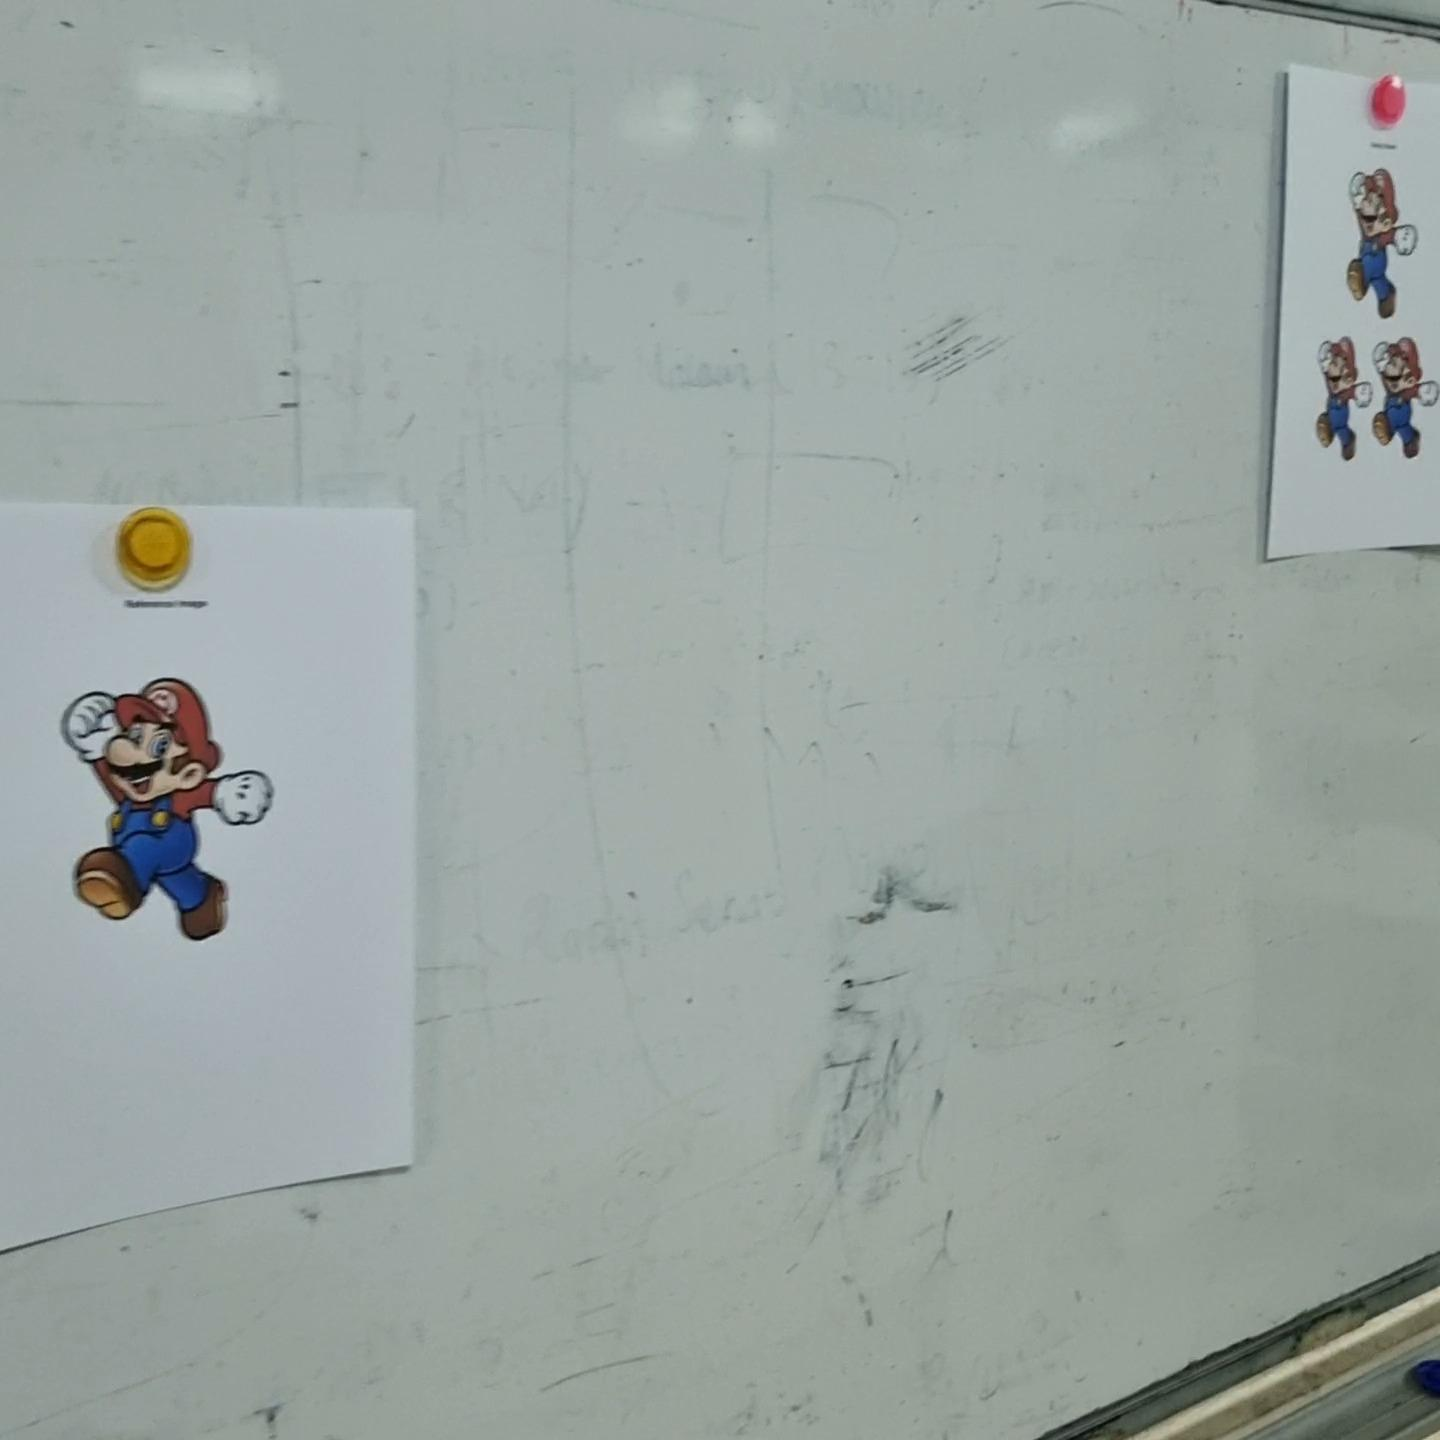mario: (54, 671, 281, 947), (1337, 161, 1420, 323), (1374, 331, 1440, 459), (1313, 327, 1373, 454)
